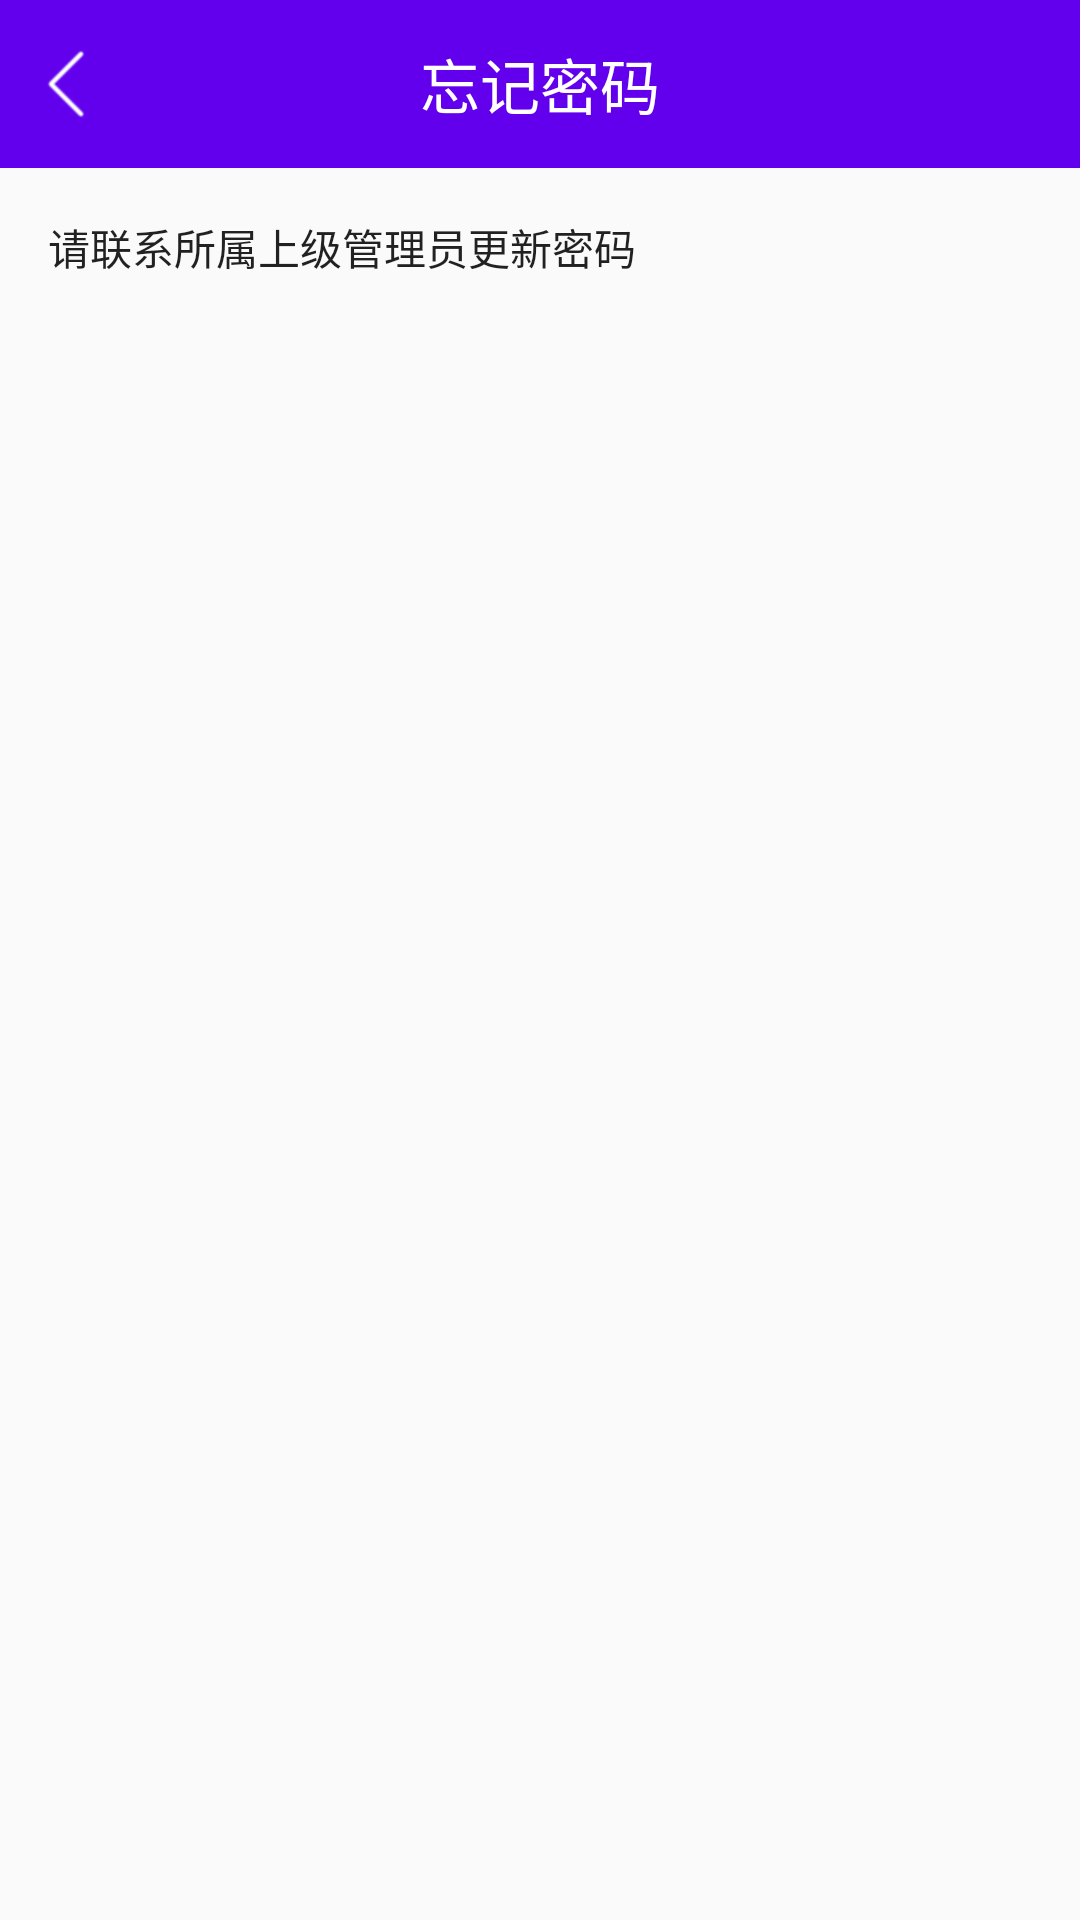

Icon click points for this 1080 x 1920 phone screenshot, format (x,y):
arrow left: (66,84)
